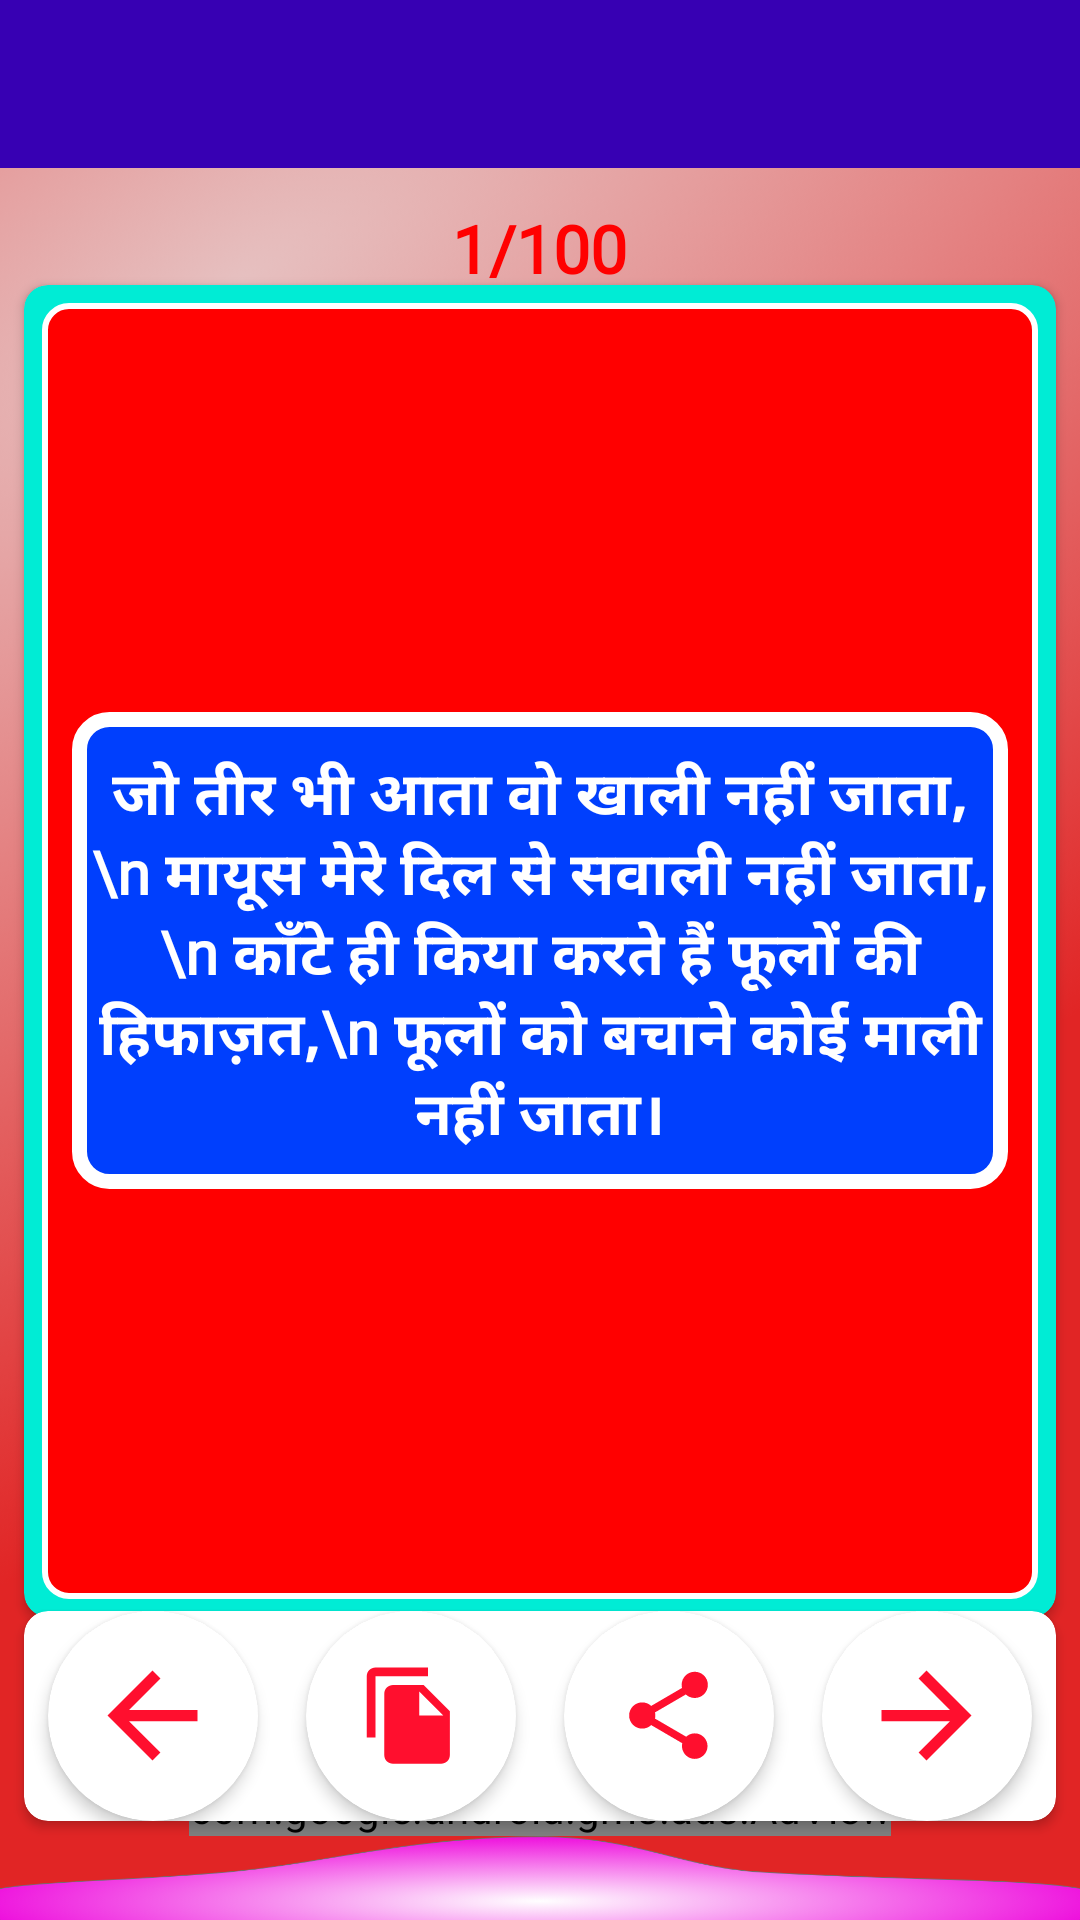

Where to tap for icons on this 1080w x 1920h app screen, as (x=x, y=y):
arrow back: (x=152, y=1715)
arrow forward: (x=926, y=1715)
file: (x=408, y=1715)
share: (x=668, y=1715)
